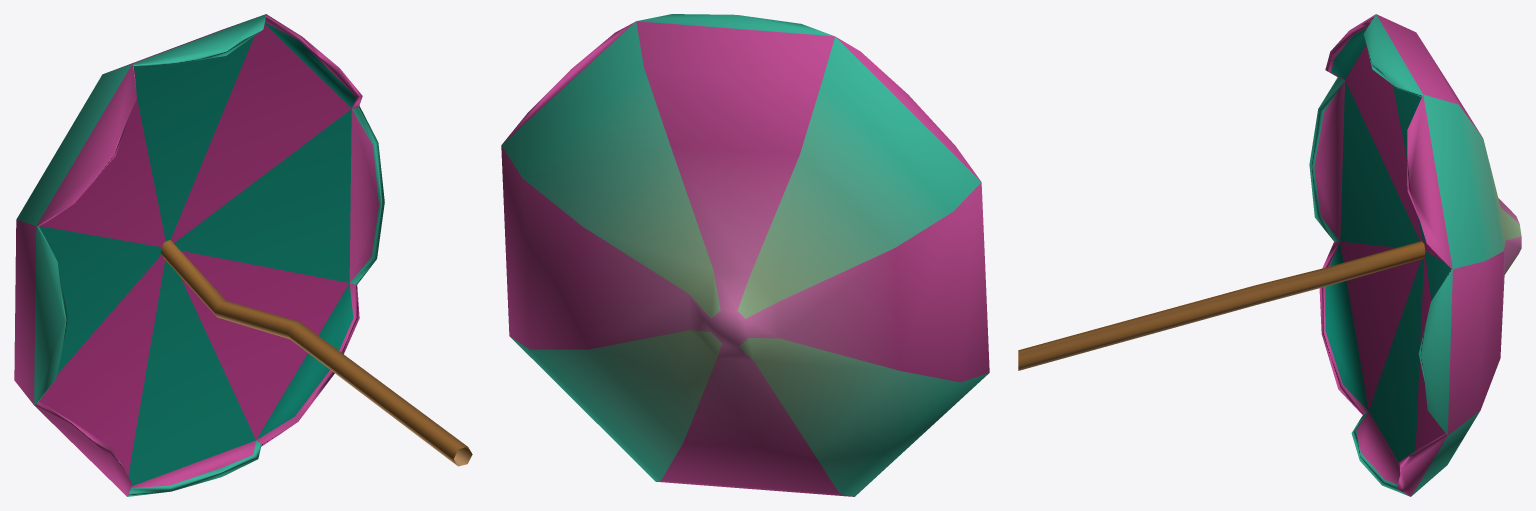
File: BlizzardBeachUmbrellaPink.fbx
3 renders of one model, left to right at view 1: azimuth 30°, elevation 25°; view 2: azimuth 150°, elevation 25°; view 3: azimuth 270°, elevation 25°, orthographic. The views are drawn at different scales.
Parts seen in each view (by area): view 1: BlizzardBeachUmbrellaPink; view 2: BlizzardBeachUmbrellaPink; view 3: BlizzardBeachUmbrellaPink.
Boxes of the visible parts, left/top/right/bottom form: BlizzardBeachUmbrellaPink: left=14, top=14, right=472, bottom=496; BlizzardBeachUmbrellaPink: left=501, top=14, right=989, bottom=496; BlizzardBeachUmbrellaPink: left=1018, top=14, right=1521, bottom=496.
Bounding box in the file's own units: 91.25 × 95.01 × 105.
